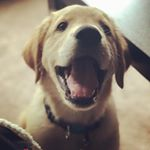puppy: (19, 2, 134, 150)
